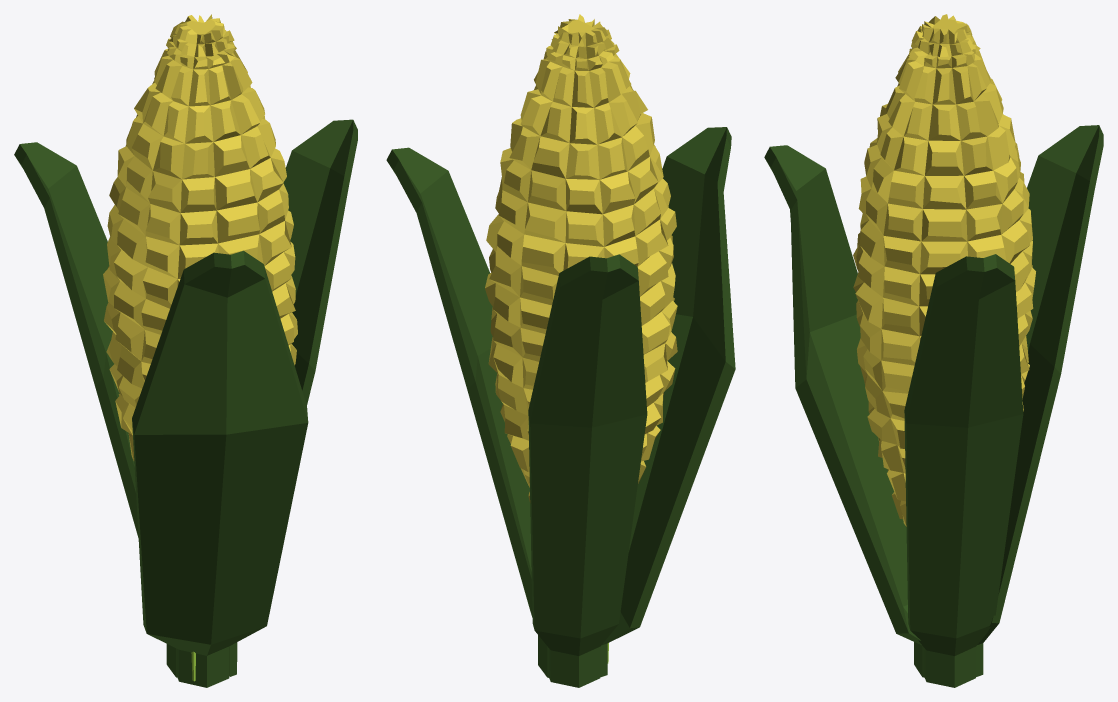
Rendered from Corn.fbx.
3 renders of one model, left to right at view 1: azimuth 30°, elevation 25°; view 2: azimuth 150°, elevation 25°; view 3: azimuth 270°, elevation 25°, orthographic.
Parts seen in each view (by area): view 1: Corn; view 2: Corn; view 3: Corn.
Part boxes in pixels (x1,y1,x2,y2): Corn: [14, 14, 357, 687]; Corn: [386, 14, 735, 687]; Corn: [764, 14, 1103, 687].
Size of the model in its own units: 1.21 by 2.61 by 1.24.
